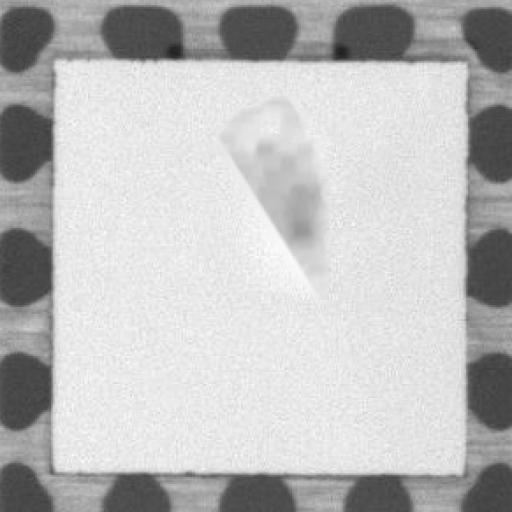DIE_INK: (207, 83, 330, 308)
